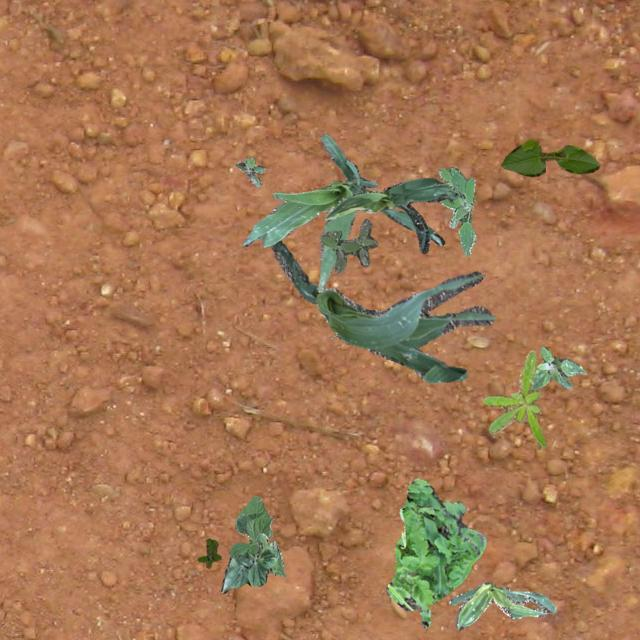crop: (270, 238, 494, 382), (242, 134, 443, 292), (324, 176, 456, 252), (448, 582, 556, 628), (228, 494, 284, 576), (501, 138, 598, 176), (220, 532, 278, 592)
weed: (386, 478, 484, 626), (482, 348, 544, 448), (438, 166, 474, 254), (318, 218, 376, 272), (530, 346, 586, 388), (234, 157, 264, 186), (197, 538, 220, 568)
